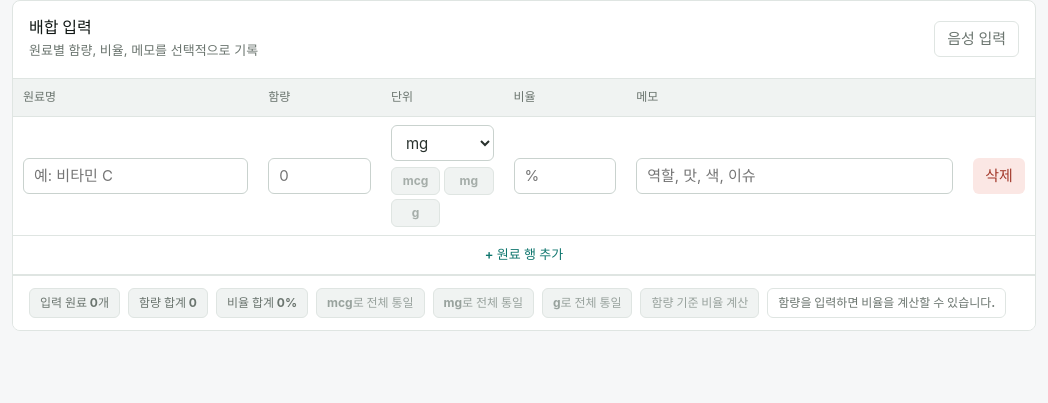
it: FormulaInputTable › suggests matching ingredients and fills the selected suggestion
In the field named "원료명 1": (136, 176) top-left (23, 158), bottom-right (248, 194), type "비타"
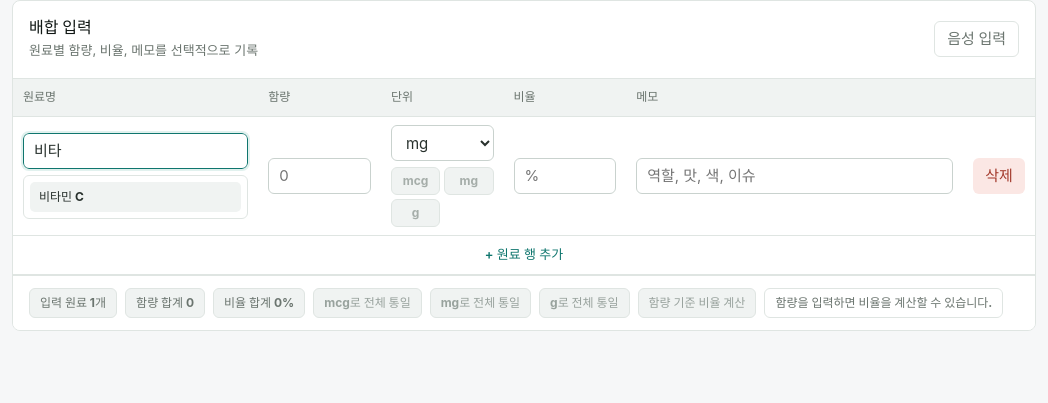
Result: the button "비타민 C" is shown
Click the button "비타민 C": (136, 197) top-left (30, 182), bottom-right (241, 212)
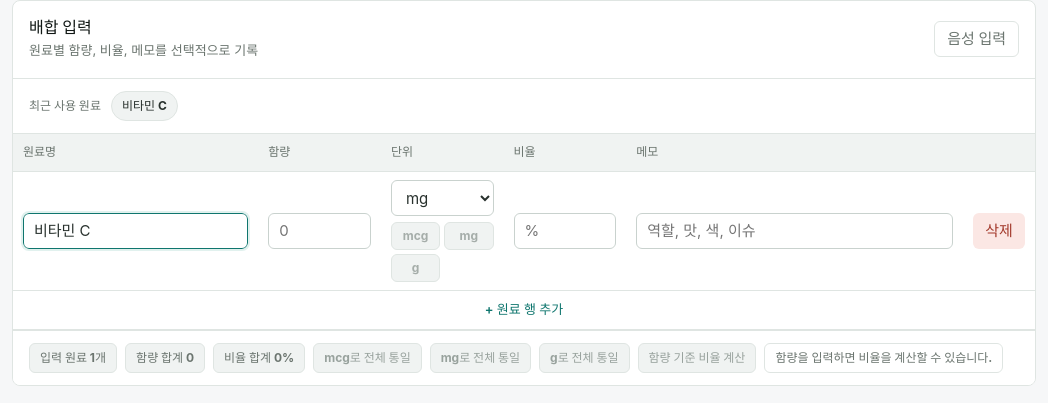
Result: the field named "원료명 1" holds "비타민 C" at top-left (23, 213), bottom-right (248, 249)
